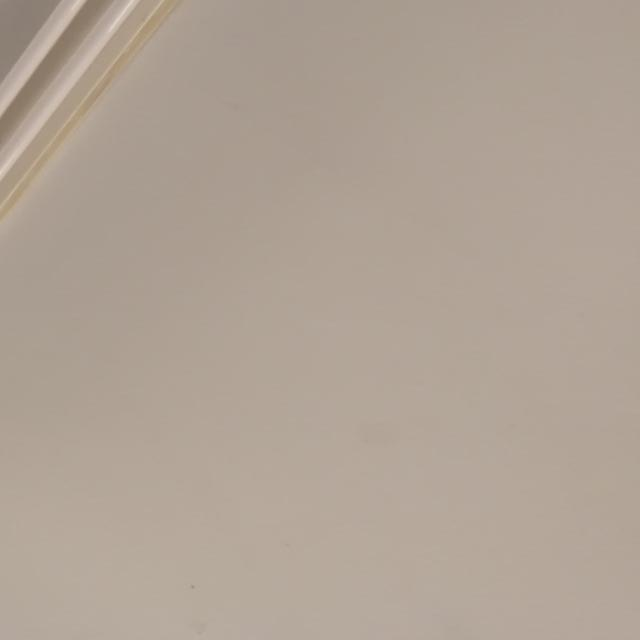fluorescent tube: (0, 0, 513, 421)
